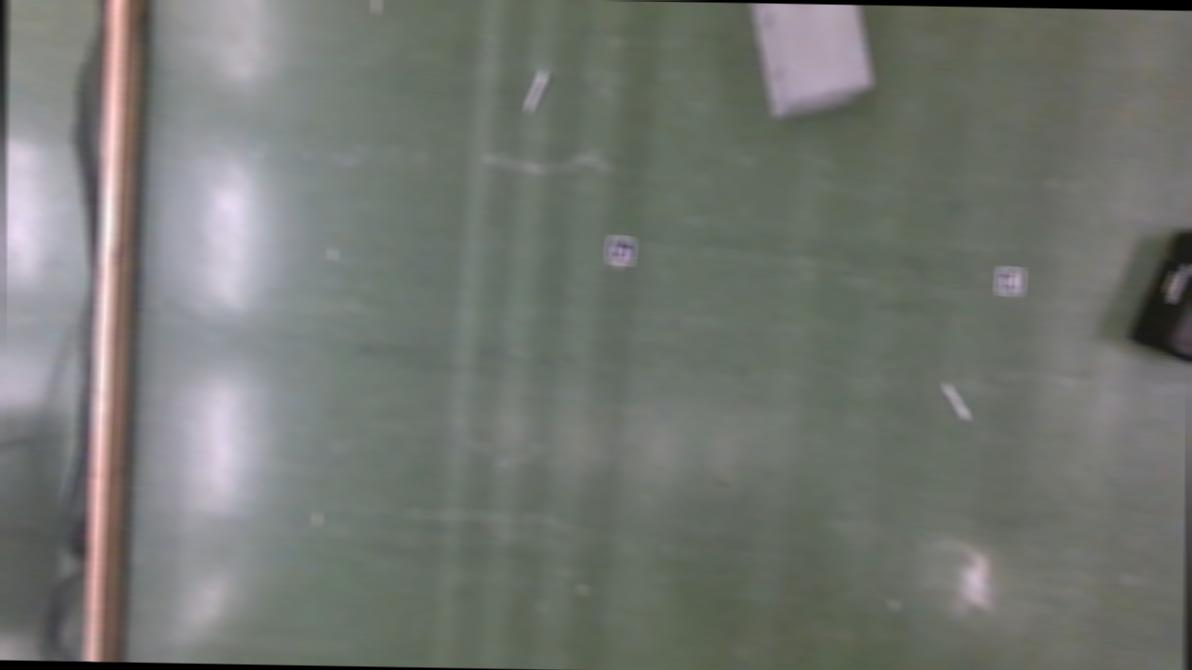probes: (525, 68, 547, 115), (944, 384, 968, 422)
rako: (750, 3, 876, 122), (1126, 229, 1192, 364)
